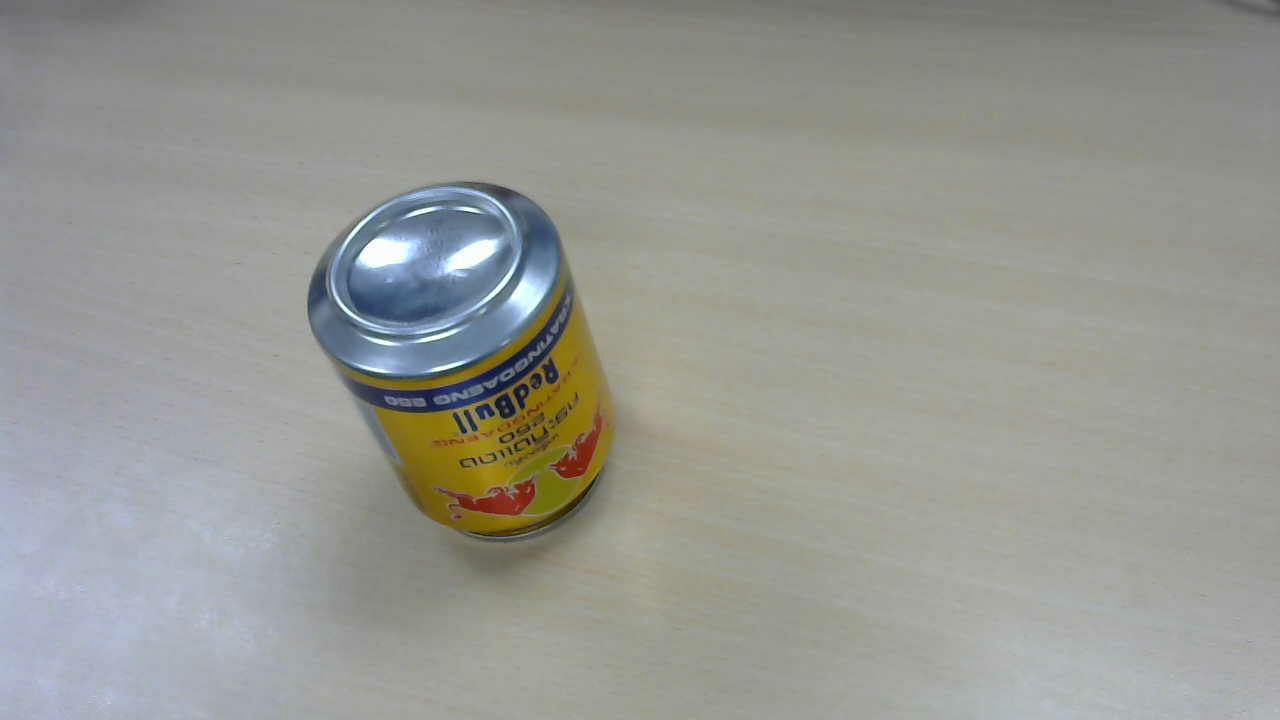Red_Bull: (318, 185, 621, 541)
